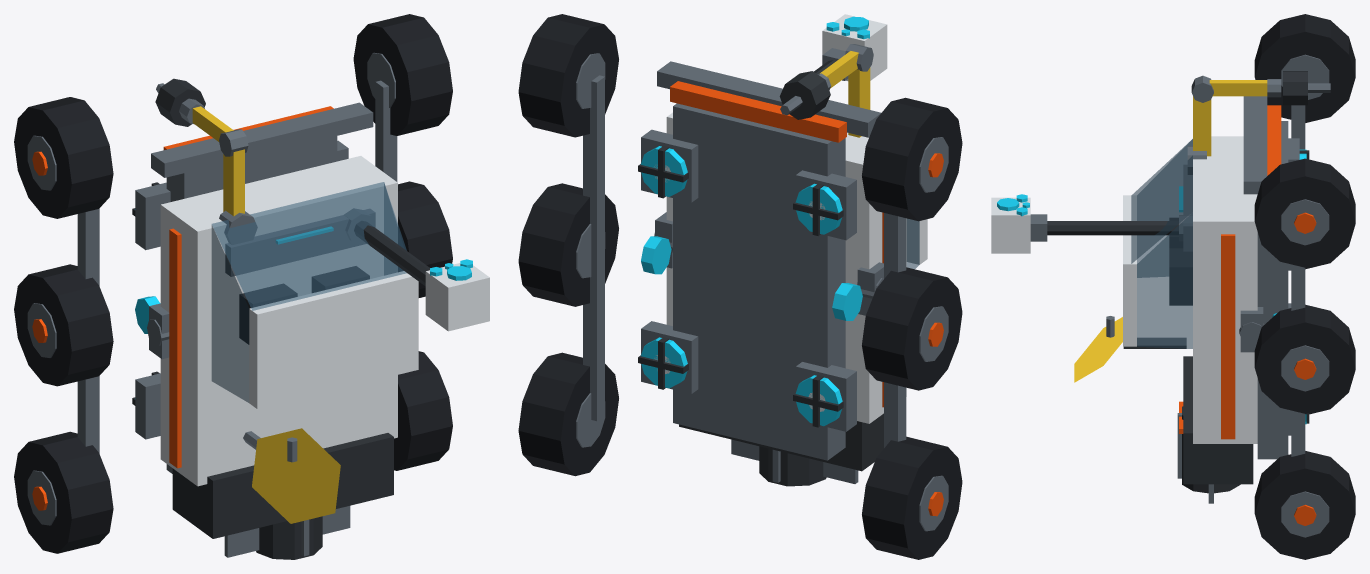
Rendered from ares_vi_master.obj.
3 renders of one model, left to right at view 1: azimuth 30°, elevation 25°; view 2: azimuth 150°, elevation 25°; view 3: azimuth 270°, elevation 25°, orthographic. The views are drawn at different scales.
Visible parts, largest first — view 1: MainHull, CockpitRoof, CockpitCanopy, AvionicsModule, Wheel_FL_Tire, Wheel_ML_Tire, Wheel_RL_Tire, Wheel_FR_Tire, AntennaDish, FrontPushBar, Wheel_RR_Tire, CanopySideL (+27 smaller); view 2: ChassisSpine, Wheel_FL_Tire, Wheel_ML_Tire, Wheel_RL_Tire, Wheel_FR_Tire, Wheel_RR_Tire, Wheel_MR_Tire, MainHull, FrontBumperStrake, FrontPushBar, BogieFrontLink_Right, RearTrailingArm_Right (+28 smaller); view 3: MainHull, Wheel_FR_Tire, Wheel_MR_Tire, Wheel_RR_Tire, CanopySideR, Wheel_FL_Tire, ChassisSpine, CockpitCanopy, AvionicsModule, CanopySideL, SafetyStrakesR, FrontPushBar (+22 smaller).
Part boxes in pixels (x1=…): MainHull: x1=160, y1=156, x2=397, y2=486; CockpitRoof: x1=249, y1=271, x2=418, y2=408; CockpitCanopy: x1=212, y1=182, x2=406, y2=310; AvionicsModule: x1=172, y1=433, x2=393, y2=538; Wheel_FL_Tire: x1=14, y1=97, x2=113, y2=218; Wheel_ML_Tire: x1=14, y1=264, x2=113, y2=386; Wheel_RL_Tire: x1=14, y1=431, x2=113, y2=553; Wheel_FR_Tire: x1=353, y1=14, x2=452, y2=135; AntennaDish: x1=252, y1=428, x2=340, y2=523; FrontPushBar: x1=151, y1=102, x2=373, y2=177; Wheel_RR_Tire: x1=394, y1=351, x2=452, y2=470; CanopySideL: x1=211, y1=225, x2=249, y2=402; ChassisSpine: x1=673, y1=103, x2=845, y2=460; Wheel_FL_Tire: x1=862, y1=97, x2=962, y2=221; Wheel_ML_Tire: x1=862, y1=267, x2=962, y2=390; Wheel_RL_Tire: x1=862, y1=436, x2=962, y2=559; Wheel_FR_Tire: x1=518, y1=14, x2=618, y2=137; Wheel_RR_Tire: x1=518, y1=352, x2=618, y2=476; Wheel_MR_Tire: x1=518, y1=183, x2=618, y2=306; MainHull: x1=666, y1=112, x2=906, y2=423; FrontBumperStrake: x1=670, y1=81, x2=846, y2=142; FrontPushBar: x1=657, y1=61, x2=881, y2=137; BogieFrontLink_Right: x1=583, y1=75, x2=604, y2=251; RearTrailingArm_Right: x1=583, y1=246, x2=604, y2=421; MainHull: x1=1193, y1=136, x2=1257, y2=443; Wheel_FR_Tire: x1=1254, y1=158, x2=1355, y2=267; Wheel_MR_Tire: x1=1254, y1=304, x2=1355, y2=413; Wheel_RR_Tire: x1=1254, y1=451, x2=1355, y2=559; CanopySideR: x1=1137, y1=212, x2=1192, y2=348; Wheel_FL_Tire: x1=1254, y1=14, x2=1355, y2=122; ChassisSpine: x1=1257, y1=121, x2=1288, y2=459; CockpitCanopy: x1=1131, y1=139, x2=1192, y2=263; AvionicsModule: x1=1183, y1=356, x2=1253, y2=484; CanopySideL: x1=1137, y1=139, x2=1192, y2=277; SafetyStrakesR: x1=1221, y1=234, x2=1235, y2=439; FrontPushBar: x1=1243, y1=96, x2=1267, y2=194.
Size of the model in its own units: 2.8 by 3.03 by 2.6.
